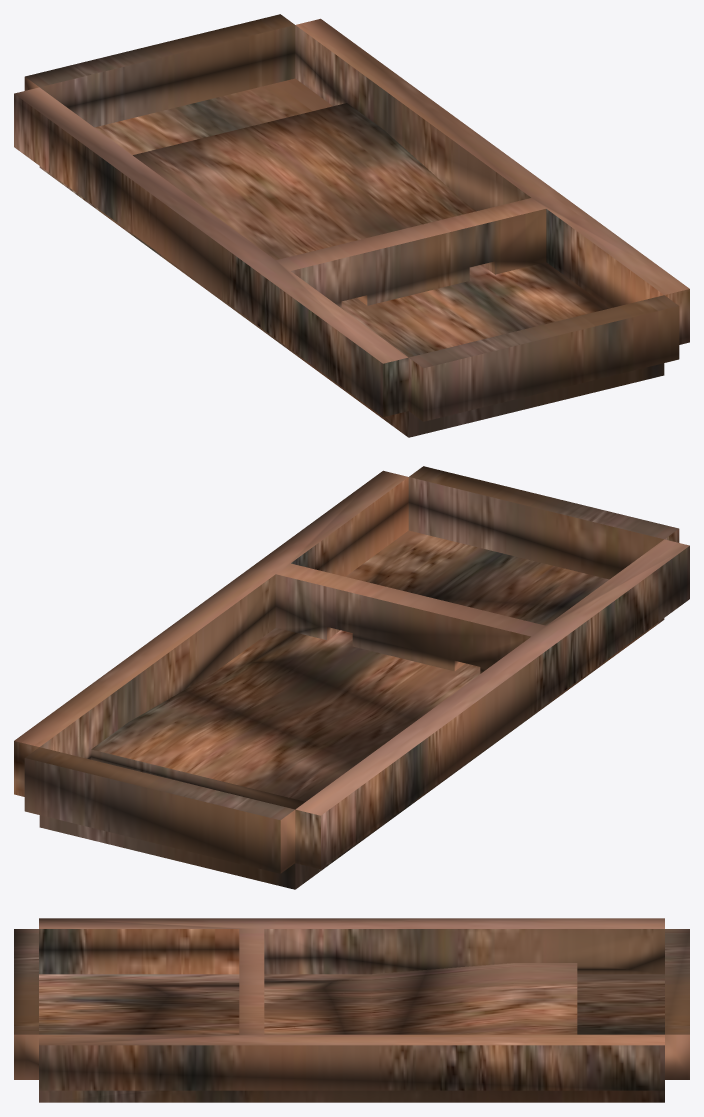
The model's file is scenario_1.dae.
The picture shows the model from 3 angles, top to bottom: view 1: azimuth 30°, elevation 25°; view 2: azimuth 150°, elevation 25°; view 3: azimuth 270°, elevation 25°; orthographic projection. The views are drawn at different scales.
Visible parts, largest first — view 1: Scenario_1 v2; view 2: Scenario_1 v2; view 3: Scenario_1 v2.
Boxes of the visible parts, box(x1,y1,x2,y2) form: Scenario_1 v2: box(14, 14, 689, 437); Scenario_1 v2: box(14, 466, 689, 889); Scenario_1 v2: box(14, 918, 689, 1102).
Size of the model in its own units: 12 by 27 by 3.
Materials: 1 (1 with a texture image).
